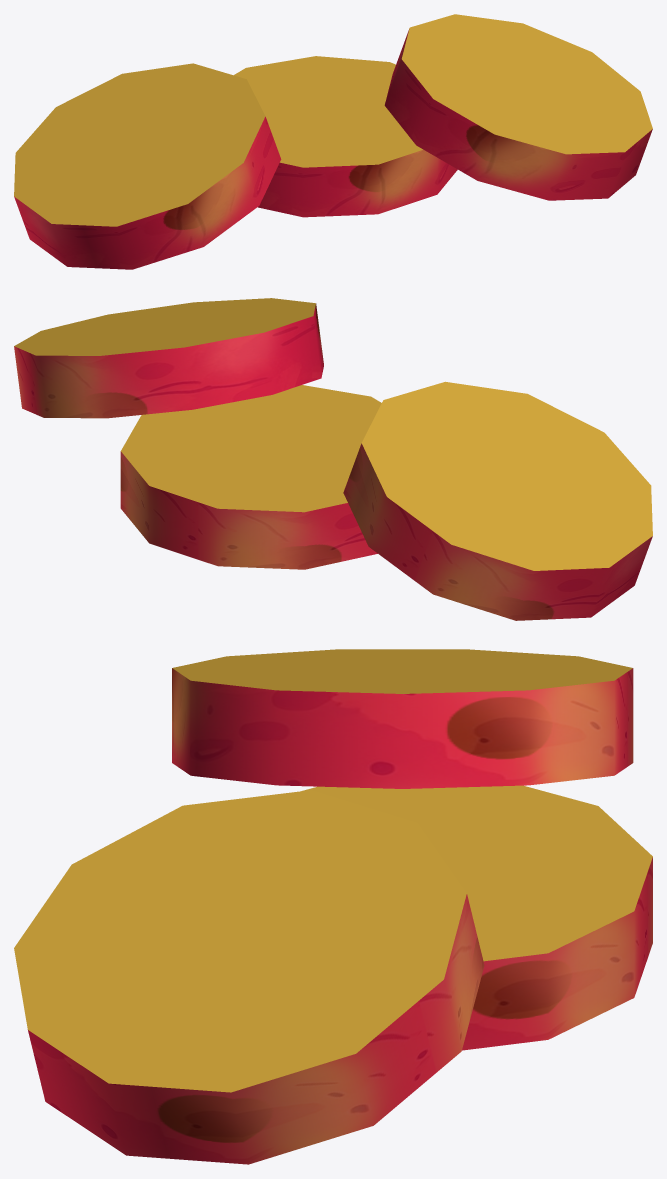
Rendered from CAMOTE_CORTADO_PRP.fbx.
The picture shows the model from 3 angles, top to bottom: view 1: azimuth 30°, elevation 25°; view 2: azimuth 150°, elevation 25°; view 3: azimuth 270°, elevation 25°; orthographic projection. The views are drawn at different scales.
Parts seen in each view (by area): view 1: CAMOTE_CORTADO_PRP; view 2: CAMOTE_CORTADO_PRP; view 3: CAMOTE_CORTADO_PRP.
Boxes of the visible parts, <box> form: CAMOTE_CORTADO_PRP: <box>14,14,652,269</box>; CAMOTE_CORTADO_PRP: <box>14,298,652,620</box>; CAMOTE_CORTADO_PRP: <box>14,649,652,1164</box>.
Bounding box in the file's own units: 18.61 × 4.25 × 10.58.
2 materials, 1 textured.
